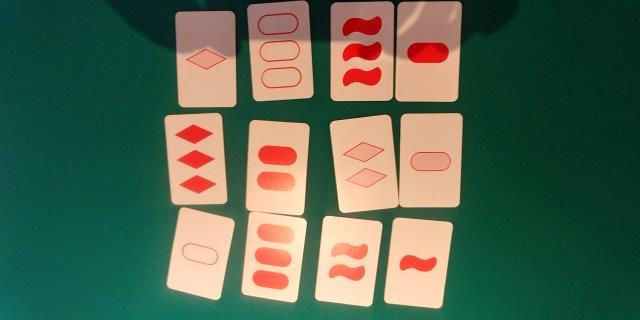1EP: (178, 215, 220, 290)
1FP: (401, 5, 455, 99)
1FW: (395, 222, 441, 301)
1HD: (180, 15, 232, 104)
1HP: (404, 118, 457, 205)
2FP: (252, 125, 301, 210)
2FW: (324, 221, 371, 302)
2HD: (339, 122, 391, 205)
3EP: (254, 7, 307, 94)
3FD: (171, 117, 221, 199)
3FP: (250, 217, 296, 295)
3FW: (334, 5, 389, 98)
